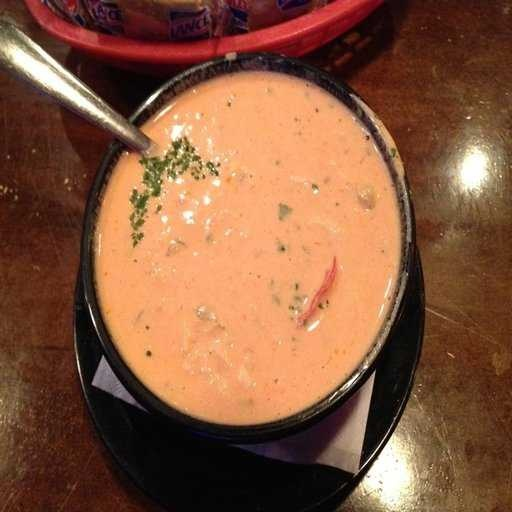soup: (112, 84, 384, 422)
